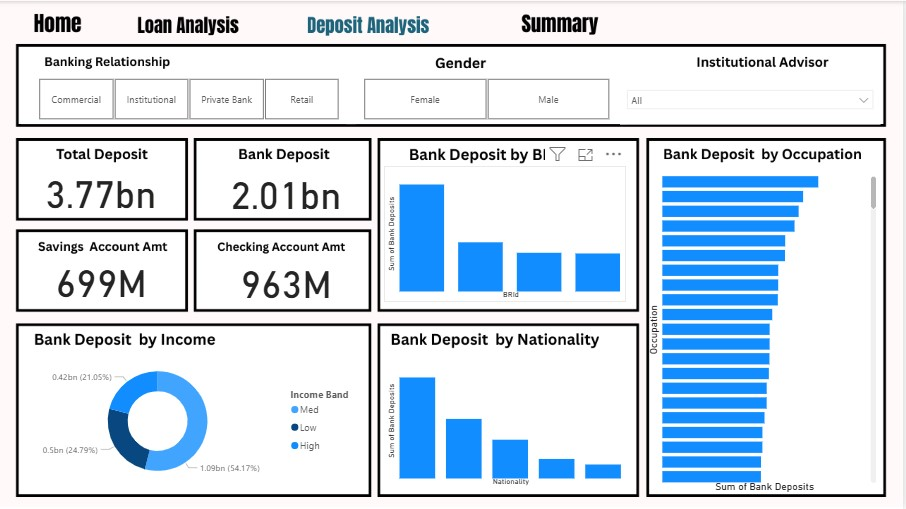

What the dashboard file says about the page in this screenshot:
{"tool":"powerbi","page":{"name":"Deposit Analysis","canvas":[1280,720],"ordinal":2},"visuals":[{"type":"actionButton","box":[31.6,9.6,113.9,48],"z":0},{"type":"actionButton","box":[422.6,9.6,216.8,48],"z":1000},{"type":"actionButton","box":[697.1,9.6,216.8,48],"z":2000},{"type":"card","fields":{"Values":["Banking.Total Deposit"]},"box":[44.3,234.3,201.4,67.1],"z":3000},{"type":"card","fields":{"Values":["Sum(Banking.Bank Deposits)"]},"box":[305.7,235.7,201.4,67.1],"z":4000},{"type":"card","fields":{"Values":["Sum(Banking.Saving Accounts)"]},"box":[44.3,360,201.4,67.1],"z":5000},{"type":"card","fields":{"Values":["Sum(Banking.Checking Accounts)"]},"box":[305.7,361.4,201.4,67.1],"z":6000},{"type":"donutChart","fields":{"Category":["Banking.Income Band"],"Y":["Sum(Banking.Bank Deposits)"]},"box":[31.4,498.6,487.1,192.9],"z":7000},{"type":"clusteredColumnChart","fields":{"Category":["Banking.BRId"],"Y":["Sum(Banking.Bank Deposits)"]},"box":[545.7,234.3,342.9,192.9],"z":8000},{"type":"clusteredColumnChart","fields":{"Category":["Banking.Nationality"],"Y":["Sum(Banking.Bank Deposits)"]},"box":[545.7,498.6,342.9,192.9],"z":9000},{"type":"barChart","fields":{"Category":["Banking.Occupation"],"Y":["Sum(Banking.Bank Deposits)"]},"box":[914.3,235.7,334.3,465.7],"z":10000},{"type":"slicer","fields":{"Values":["Banking.BRId"]},"box":[31.4,102.9,474.3,71.4],"z":11000},{"type":"slicer","fields":{"Values":["Banking.GenderId"]},"box":[491.4,102.9,397.1,71.4],"z":12000},{"type":"slicer","fields":{"Values":["Banking.IAId"]},"box":[880,115.7,368.6,58.6],"z":13000},{"type":"actionButton","box":[171.4,10,191.4,47.1],"z":14000}]}

Visuals, with their boxes in screenshot pixels (x1, y1, x2, y2), scaled from the page's 1280x720 canvas onto the 906x509 screenshot:
actionButton: (22, 7, 103, 41)
actionButton: (299, 7, 453, 41)
actionButton: (493, 7, 647, 41)
card - Banking.Total Deposit: (31, 166, 174, 213)
card - Sum(Banking.Bank Deposits): (216, 167, 359, 214)
card - Sum(Banking.Saving Accounts): (31, 255, 174, 302)
card - Sum(Banking.Checking Accounts): (216, 255, 359, 303)
donutChart - Banking.Income Band x Sum(Banking.Bank Deposits): (22, 352, 367, 489)
clusteredColumnChart - Banking.BRId x Sum(Banking.Bank Deposits): (386, 166, 629, 302)
clusteredColumnChart - Banking.Nationality x Sum(Banking.Bank Deposits): (386, 352, 629, 489)
barChart - Banking.Occupation x Sum(Banking.Bank Deposits): (647, 167, 884, 496)
slicer - Banking.BRId: (22, 73, 358, 123)
slicer - Banking.GenderId: (348, 73, 629, 123)
slicer - Banking.IAId: (623, 82, 884, 123)
actionButton: (121, 7, 257, 40)
